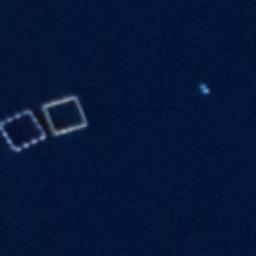square_solid: (1, 104, 50, 157), (38, 93, 91, 140)
